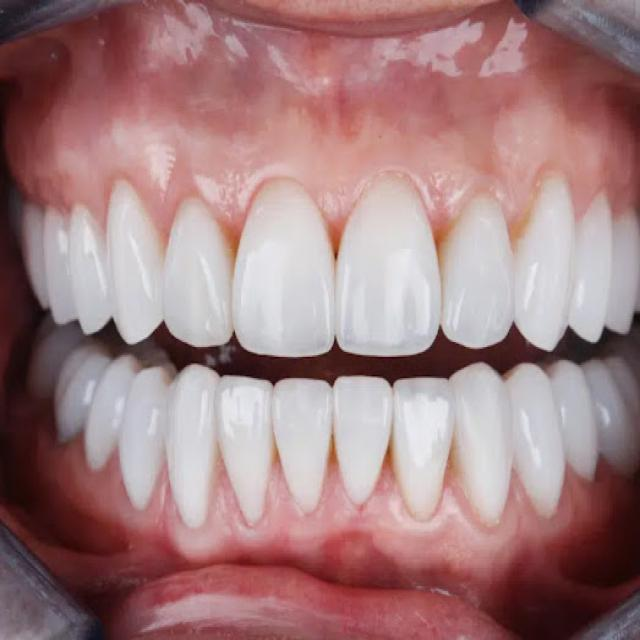tooth: (341, 167, 442, 362), (248, 168, 329, 348), (442, 195, 514, 362), (154, 201, 234, 347), (514, 195, 573, 344), (218, 372, 275, 526), (119, 372, 175, 509), (275, 372, 327, 508), (543, 365, 611, 465), (175, 372, 218, 526), (339, 381, 394, 491), (572, 195, 608, 337), (462, 383, 512, 476), (67, 205, 106, 324), (116, 205, 150, 329), (400, 395, 446, 486), (23, 326, 66, 388), (617, 200, 636, 337), (528, 381, 550, 493), (95, 362, 116, 479), (49, 206, 67, 311), (66, 334, 82, 439), (18, 214, 43, 278), (604, 370, 620, 452), (618, 352, 639, 398)
